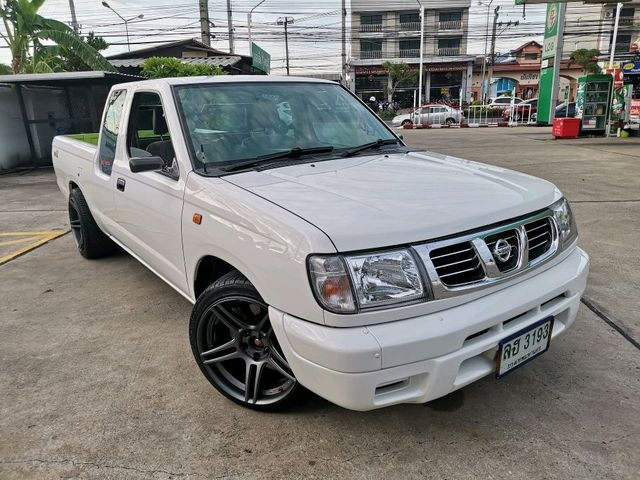pickup: (47, 72, 593, 417)
